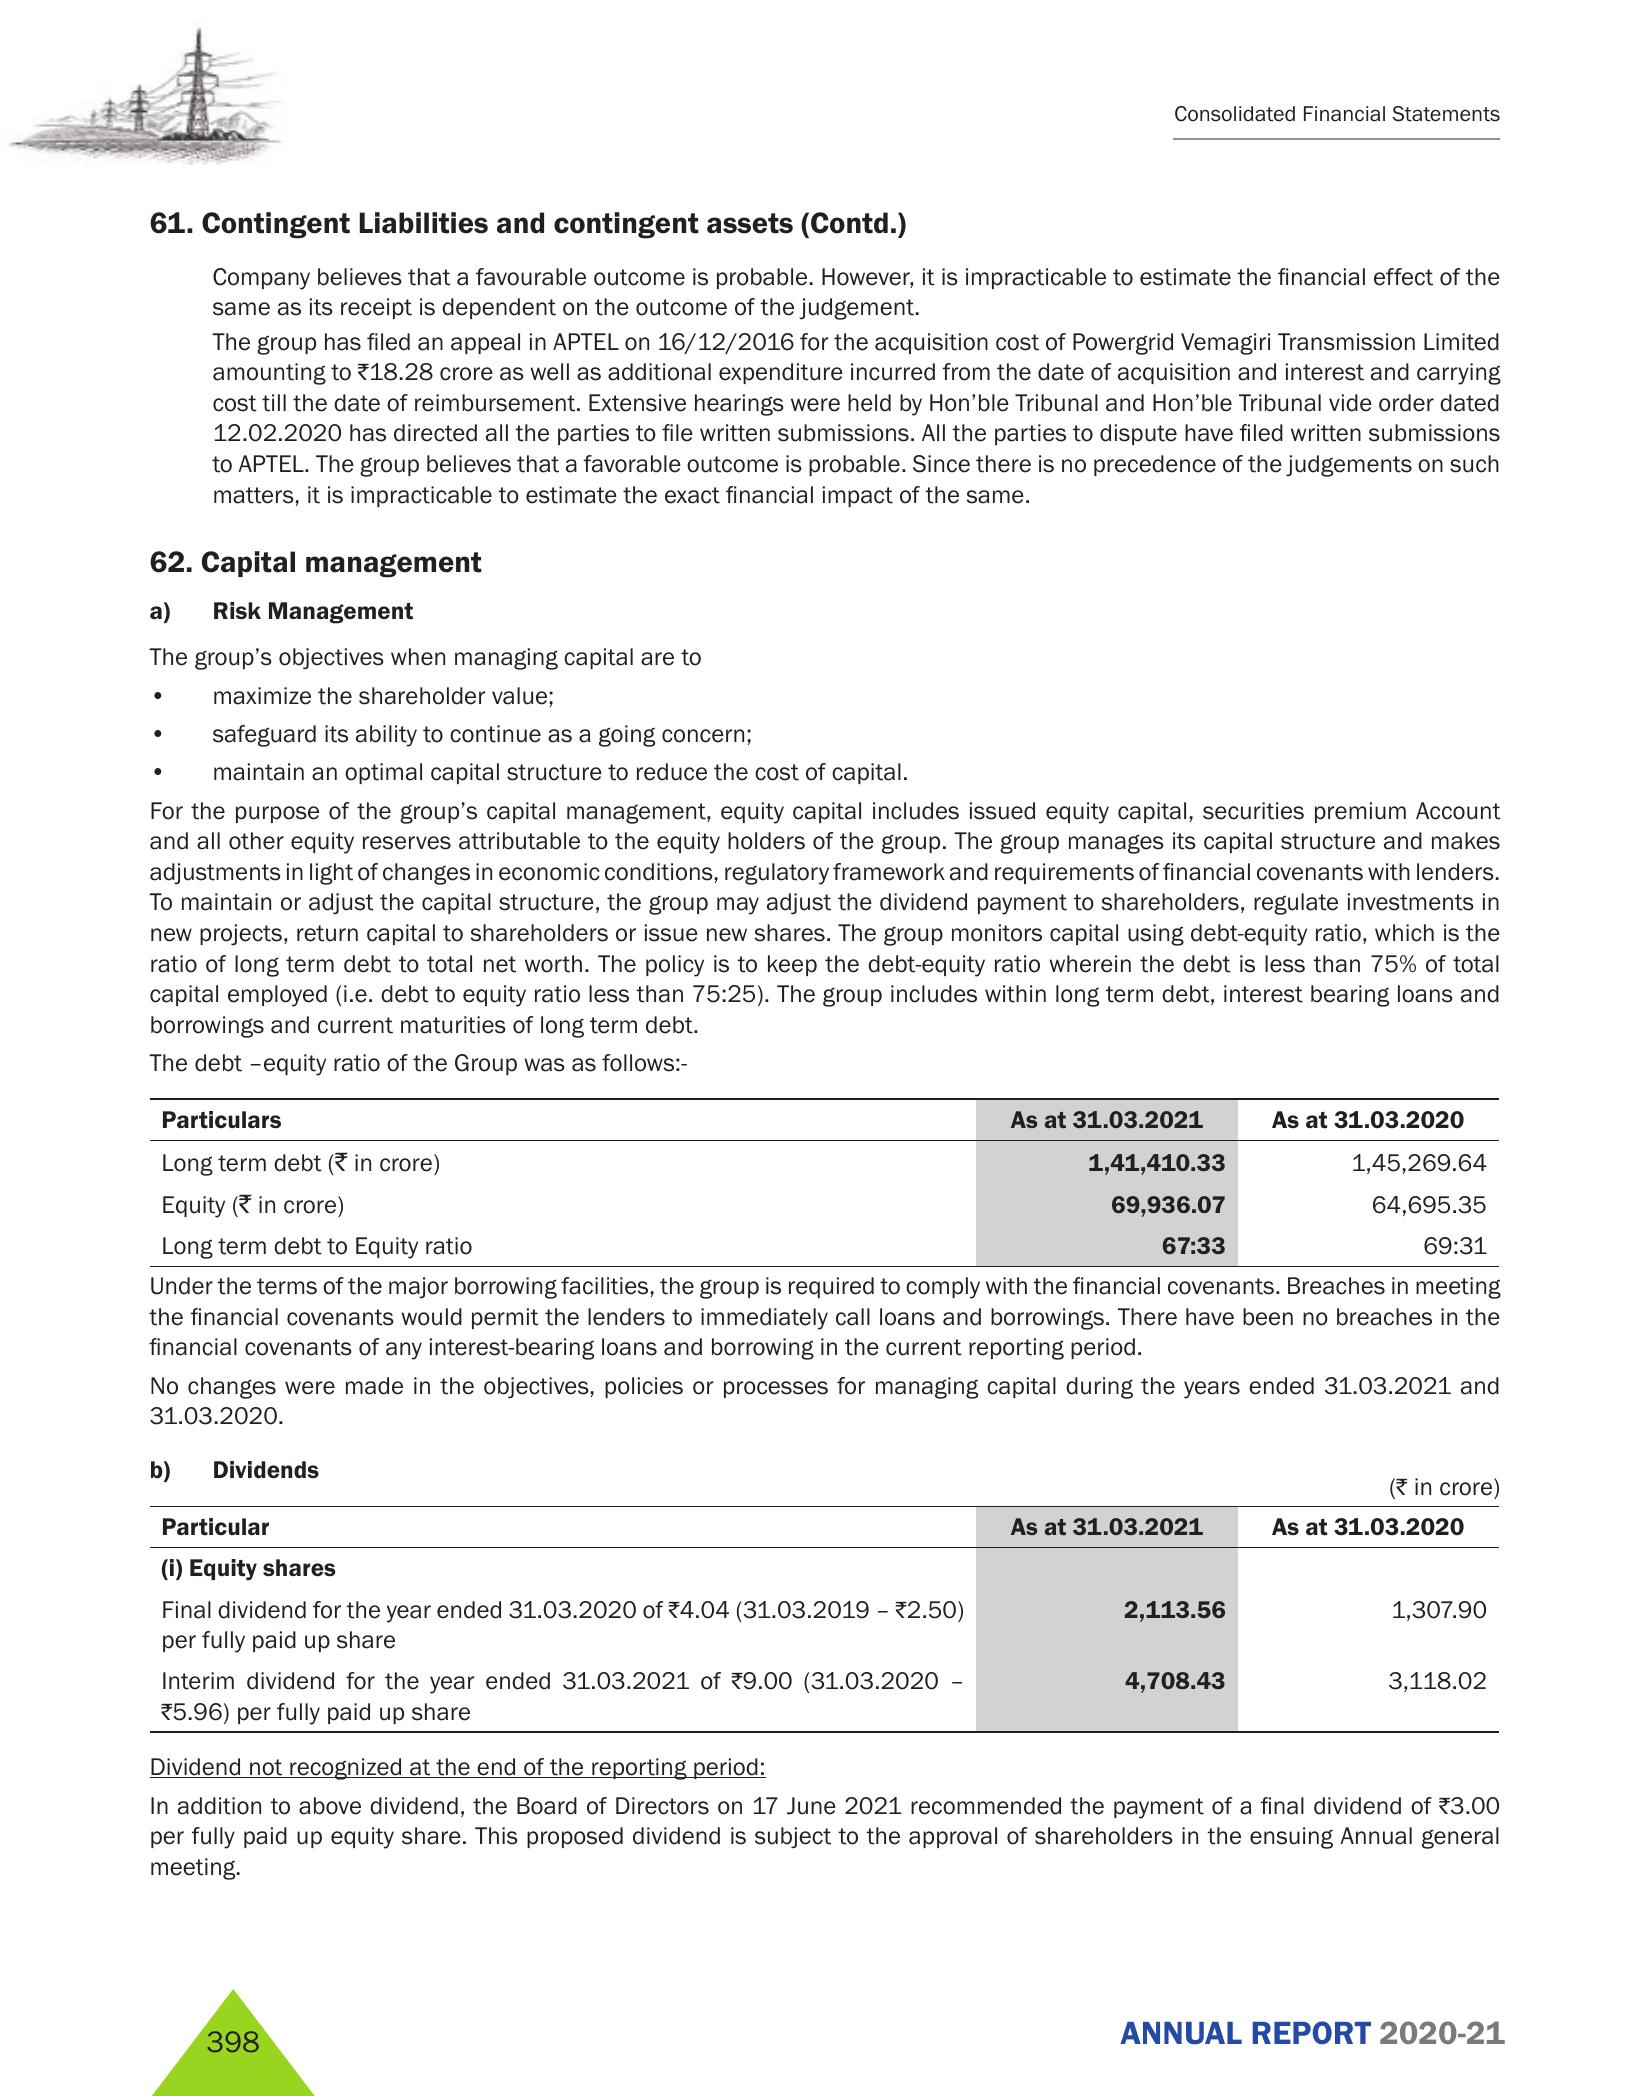Footer: (0, 1956, 1650, 2096)
Header: (0, 0, 1650, 180)
Table: (105, 1499, 1492, 1717), (105, 1091, 1536, 1271)
